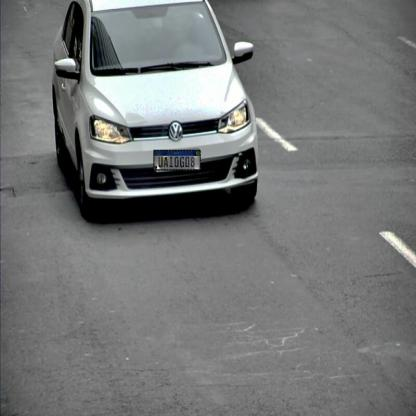PlacaM: (153, 150, 201, 171)
